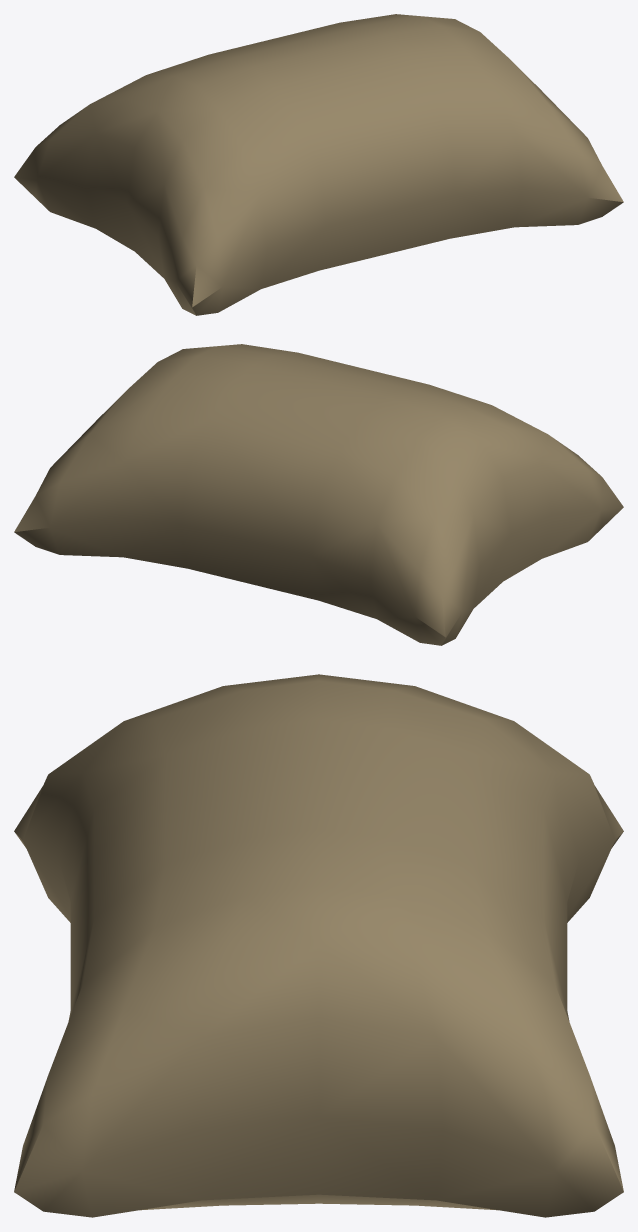
File: Bag.glb
3 views of the same model, one above another, from view 1: azimuth 30°, elevation 25°; view 2: azimuth 150°, elevation 25°; view 3: azimuth 270°, elevation 25° (orthographic). The views are drawn at different scales.
Parts seen in each view (by area): view 1: Bag; view 2: Bag; view 3: Bag.
Part boxes in pixels (x1,y1,x2,y2): Bag: (14, 14, 623, 315); Bag: (14, 344, 623, 645); Bag: (14, 674, 623, 1217).
Bounding box in the file's own units: 0.1535 × 0.0584 × 0.1096.
